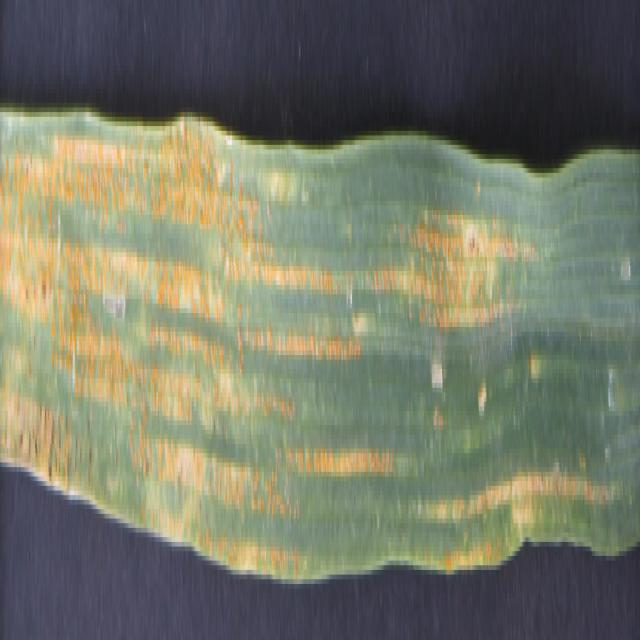leaf rust: (0, 107, 640, 565)
